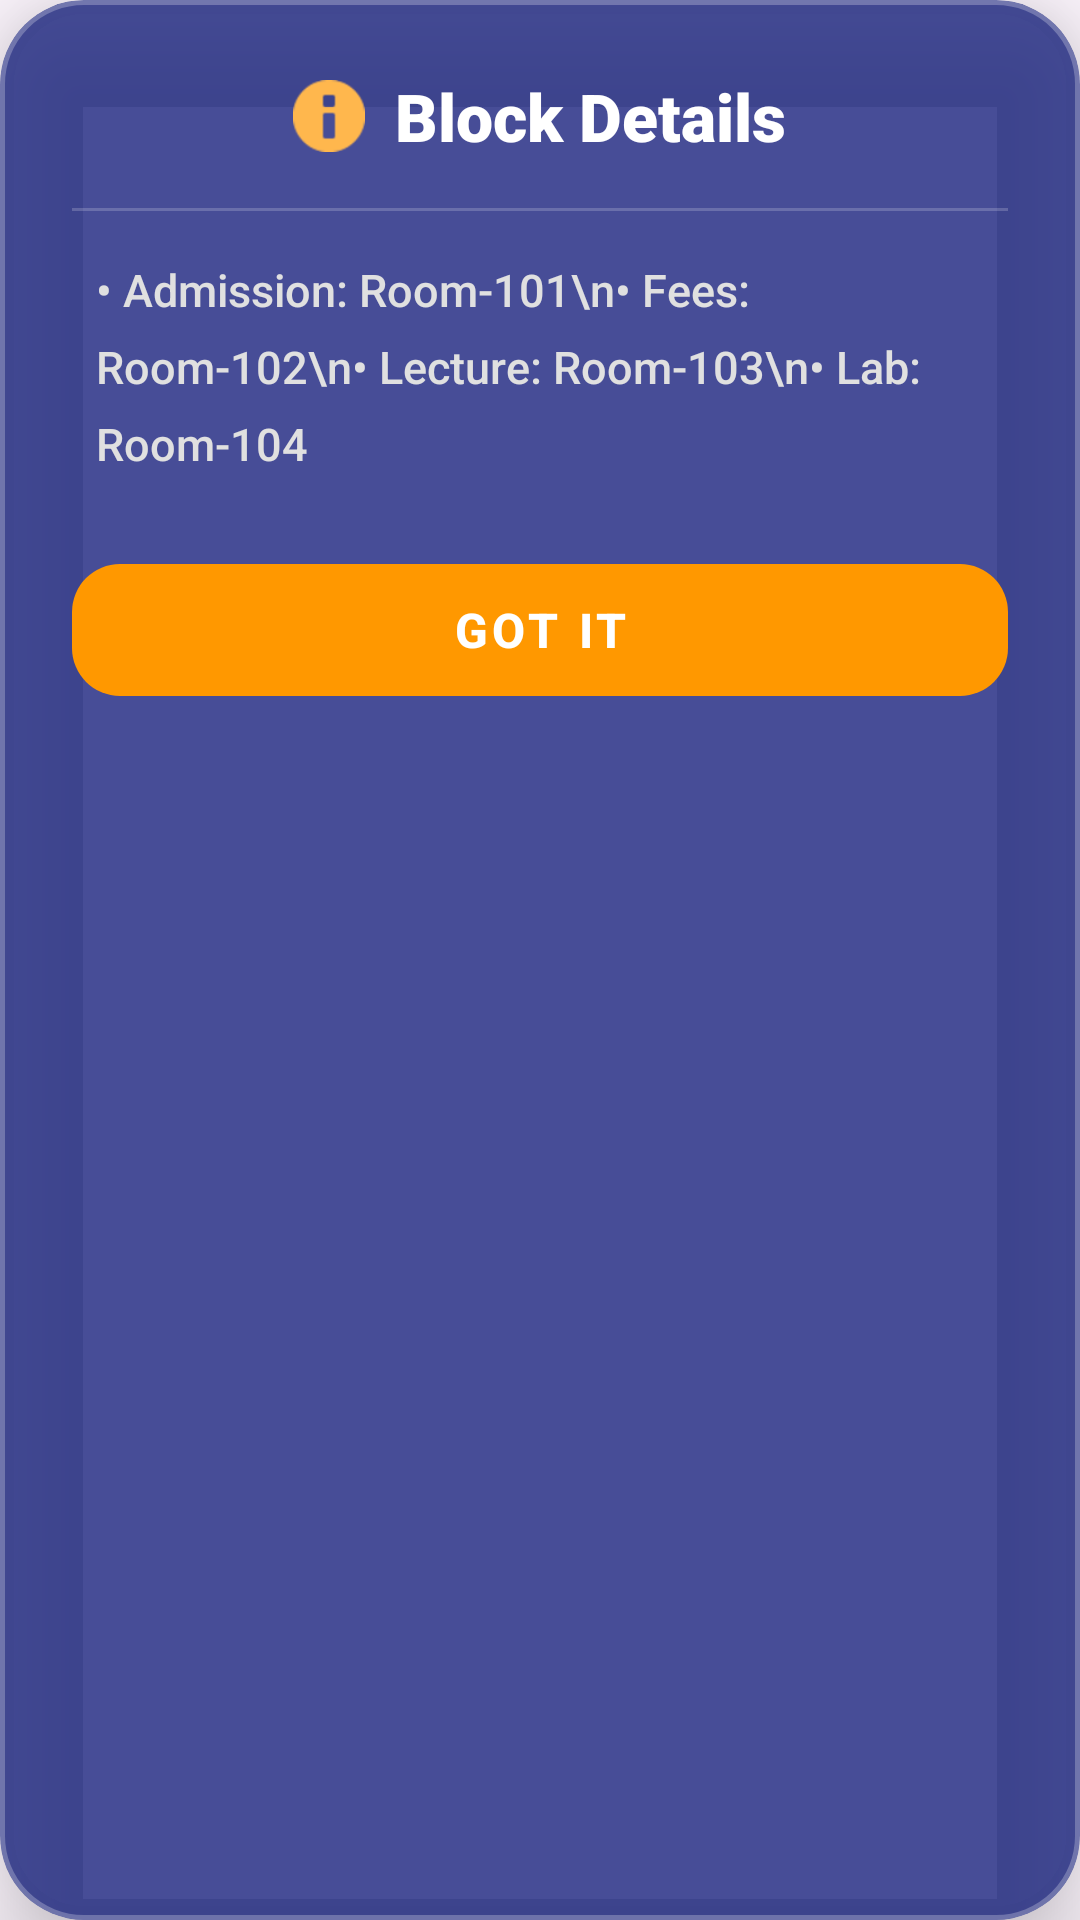

Screen size 1080 × 1920. Icon name, then its center in pixels as (x,y):
info: (329,116)
